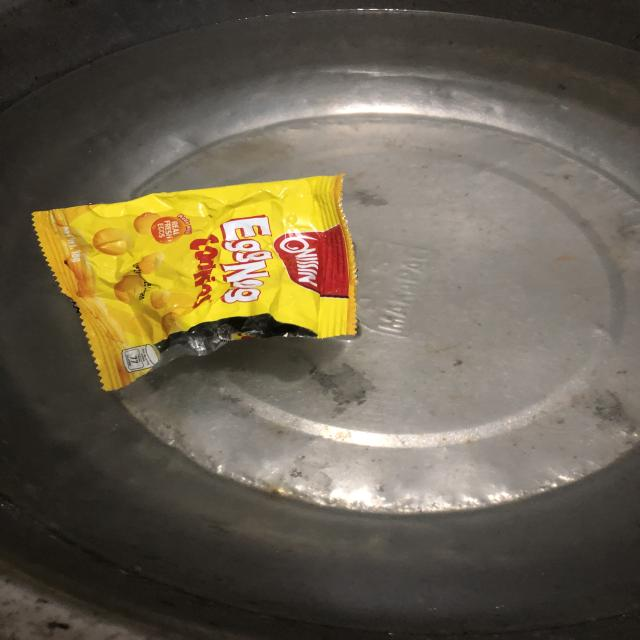Plastic Wrapper: (26, 168, 348, 398)
